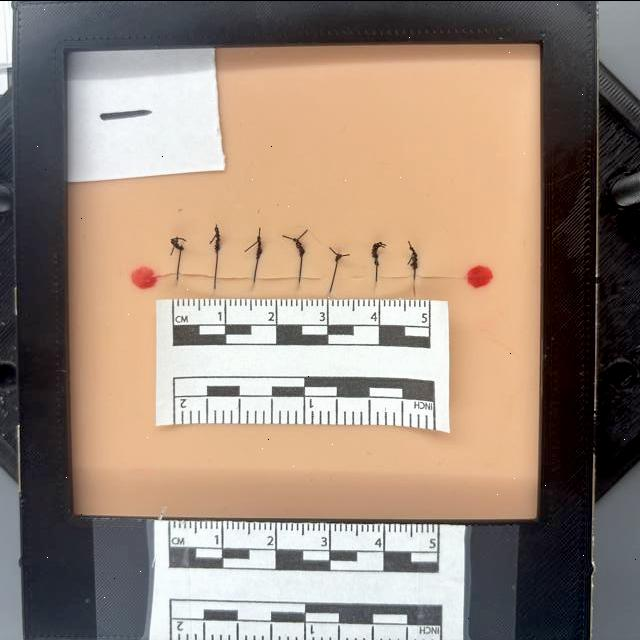incision_line: (143, 270, 481, 282)
scale_marker: (226, 300, 268, 325)
suture_d: (214, 260, 252, 282), (256, 268, 296, 286), (174, 260, 213, 278), (334, 271, 374, 285), (376, 268, 414, 282), (300, 274, 335, 284)
suture_l: (210, 276, 220, 293), (327, 280, 337, 294), (372, 277, 380, 294), (412, 276, 419, 294), (173, 273, 182, 287), (250, 278, 258, 293), (296, 277, 303, 290)
suture_r: (211, 245, 222, 277), (174, 246, 186, 273), (252, 249, 263, 278), (297, 251, 306, 277), (331, 258, 341, 280), (412, 261, 419, 276), (374, 262, 380, 277)
